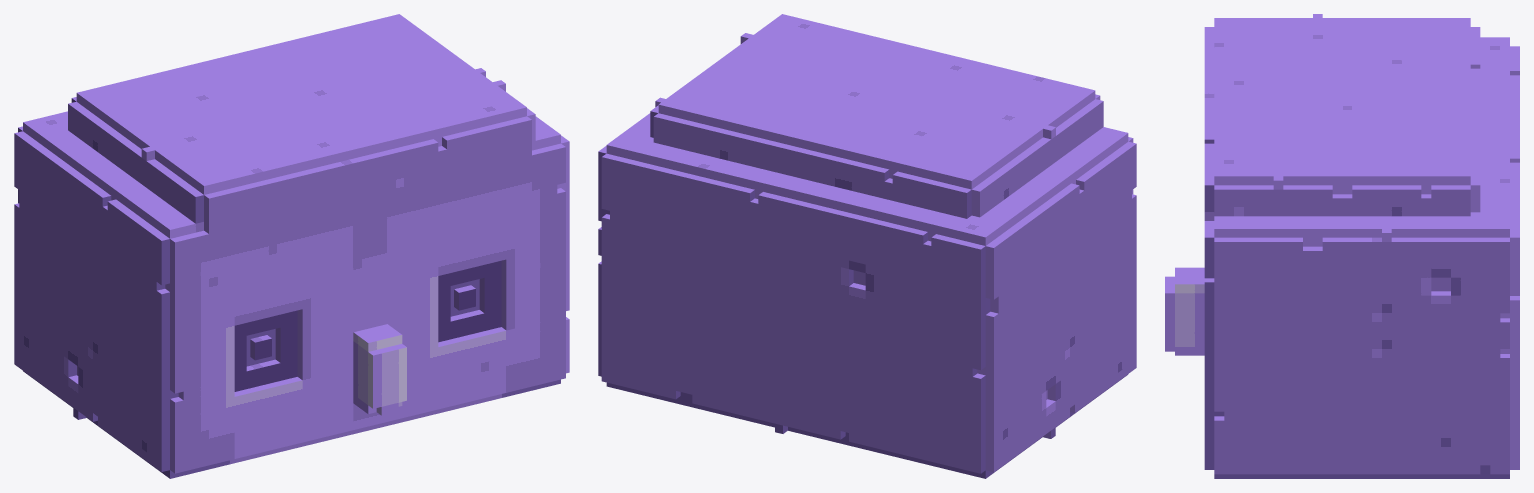
Rendered from watertower_owl_head_ao.fezao.glb.
The picture shows the model from 3 angles, left to right: view 1: azimuth 30°, elevation 25°; view 2: azimuth 150°, elevation 25°; view 3: azimuth 270°, elevation 25°; orthographic projection. The views are drawn at different scales.
Parts seen in each view (by area): view 1: WATERTOWER_OWL_HEADAO; view 2: WATERTOWER_OWL_HEADAO; view 3: WATERTOWER_OWL_HEADAO.
Part boxes in pixels (x1=…): WATERTOWER_OWL_HEADAO: x1=14, y1=14, x2=569, y2=478; WATERTOWER_OWL_HEADAO: x1=598, y1=14, x2=1136, y2=478; WATERTOWER_OWL_HEADAO: x1=1165, y1=14, x2=1519, y2=478.
Bounding box in the file's own units: 3 × 2 × 2.25.
Materials: 1 (1 with a texture image).
